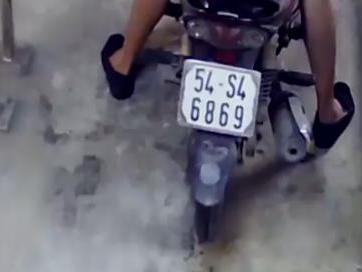num_plate: (178, 56, 262, 138)
